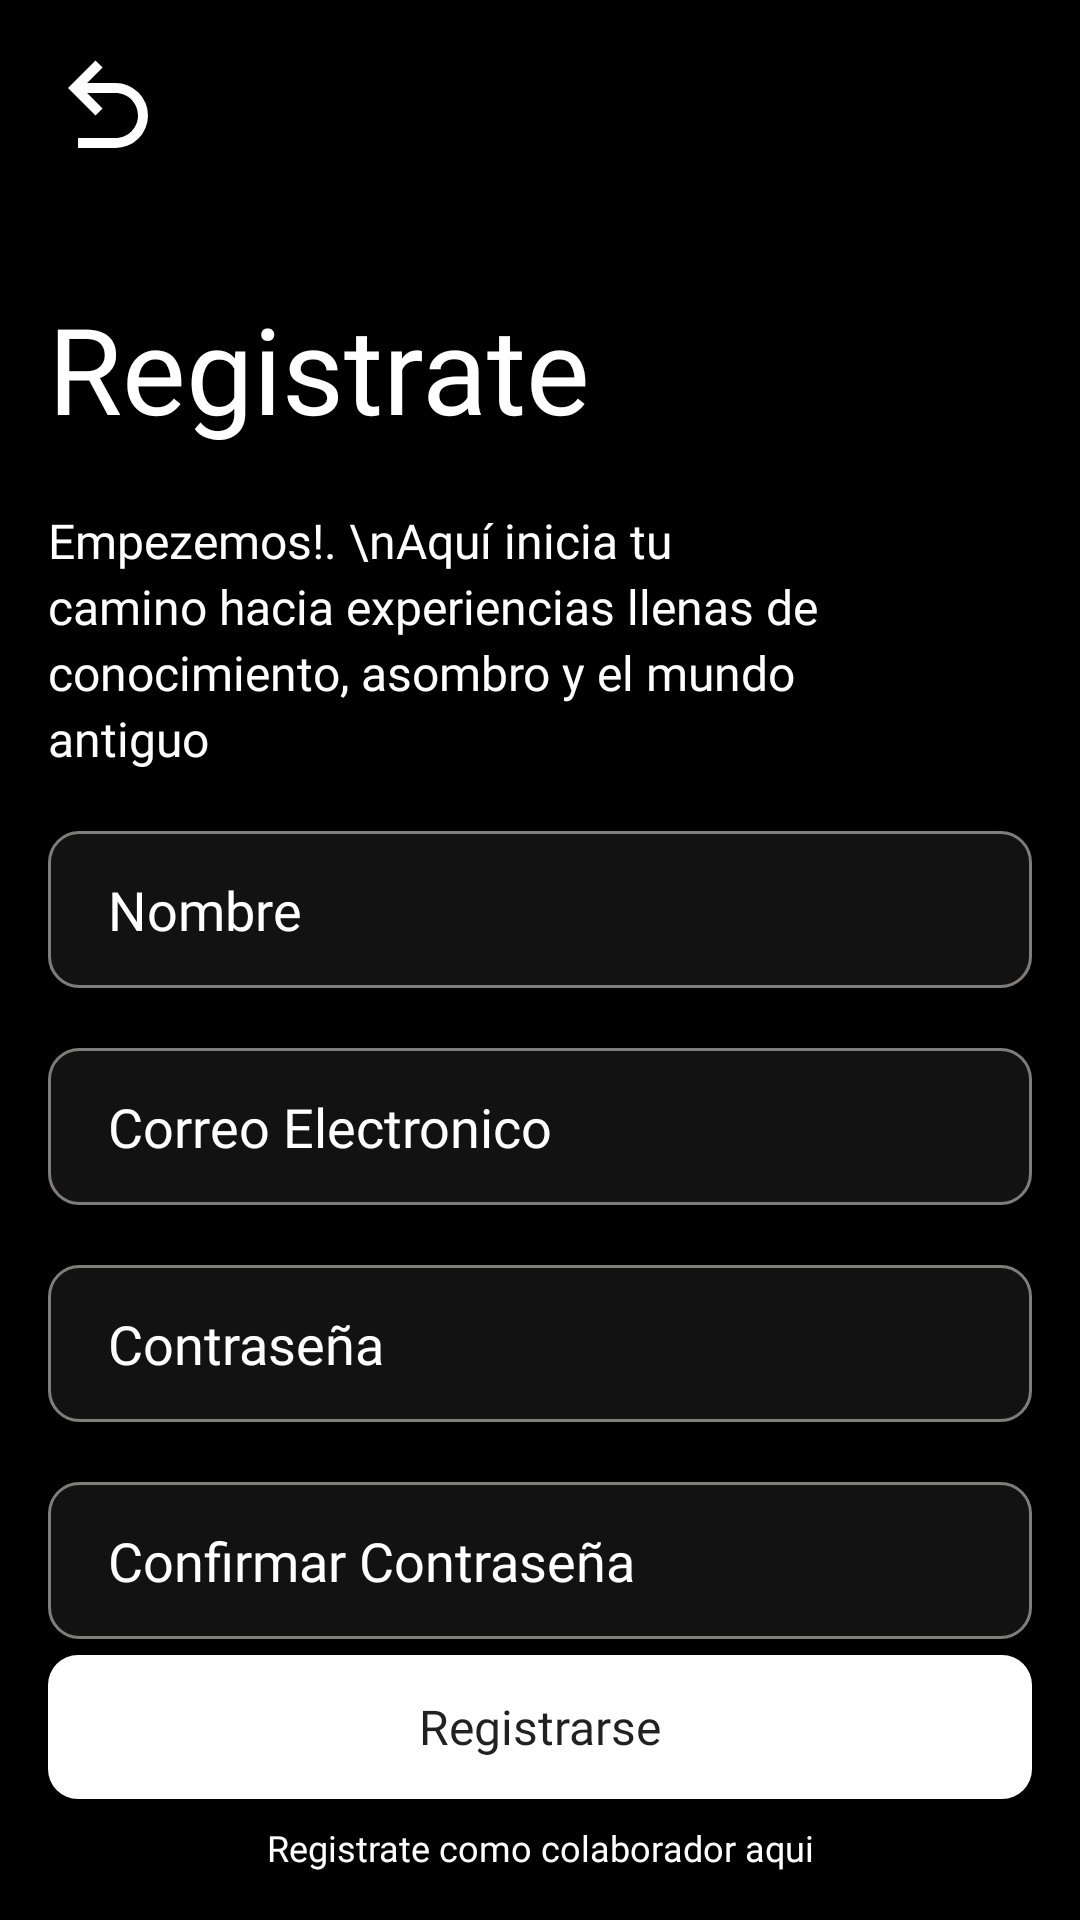

Icon click points for this 1080 × 1920 phone screenshot, format (x=x, y=y):
arrow left top: (x=108, y=104)
